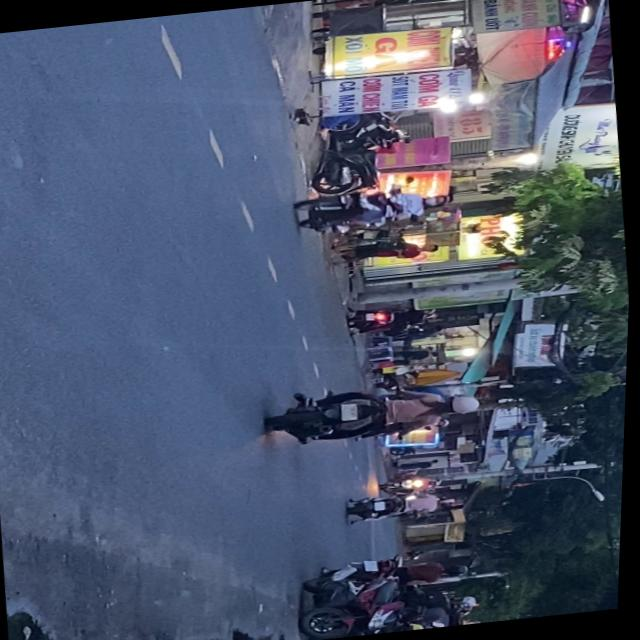helmet: (448, 391, 485, 413), (426, 192, 451, 206)
licenseplate: (267, 372, 488, 449), (292, 176, 455, 236)
nohelmet: (344, 402, 362, 419)
